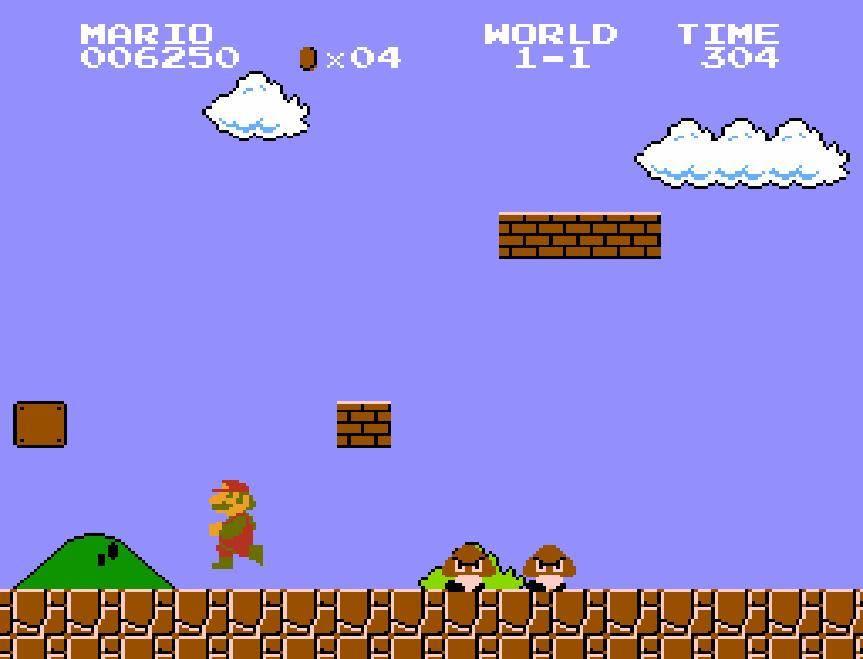big_mario: (206, 472, 264, 570)
